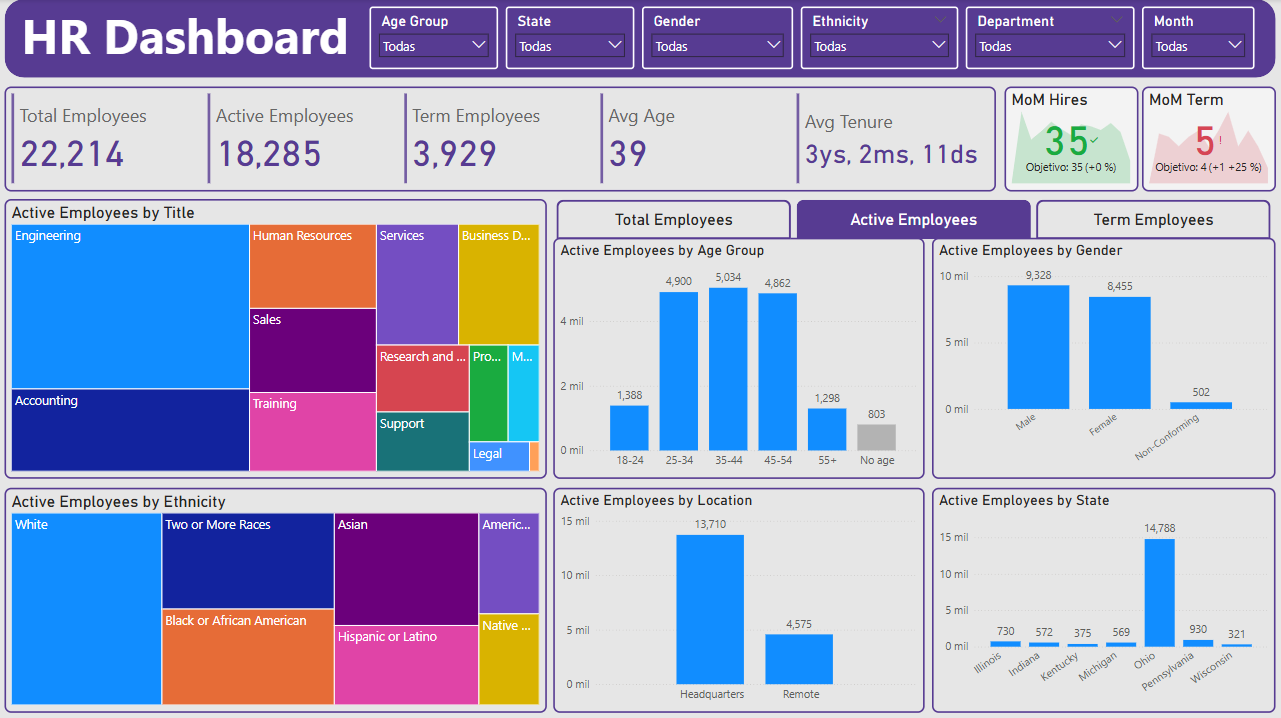

What the dashboard file says about the page in this screenshot:
{"tool":"powerbi","page":{"name":"HHRR","canvas":[1920,1080],"ordinal":0},"visuals":[{"type":"clusteredColumnChart","fields":{"Y":["_Measures.Active Employees"],"Category":["DimStates.name","DimCities.name"]},"box":[1395.7,729.6,513.1,335.9],"z":0},{"type":"clusteredColumnChart","fields":{"Y":["_Measures.Active Employees"],"Category":["FactEmployees.Columna"]},"box":[830.3,356.4,554.2,360.1],"z":1000},{"type":"cardVisual","fields":{"Data":["_Measures.Total employees","_Measures.Active employees","_Measures.Term Employees","_Measures.Avg age","_Measures.Tenure"]},"box":[11.2,130.6,1479.7,156.7],"z":2000},{"type":"advancedSlicerVisual","fields":{"Values":["Employee Measures.Employee Measures"]},"box":[830.3,294.8,1078.5,69],"z":3000},{"type":"treemap","title":"Active Employees by Ethnicity","fields":{"Values":["_Measures.Active employees"],"Group":["DimEthnicities.name"]},"box":[11.2,729.6,809.8,335.9],"z":4000},{"type":"clusteredColumnChart","fields":{"Y":["_Measures.Active Employees"],"Category":["DimLocations.name"]},"box":[830.3,729.6,554.2,335.9],"z":5000},{"type":"clusteredColumnChart","fields":{"Y":["_Measures.Active Employees"],"Category":["DimGender.name"]},"box":[1395.7,356.4,513.1,360.1],"z":6000},{"type":"treemap","title":"Active Employees by Title","fields":{"Values":["_Measures.Active employees"],"Group":["DimDepartments.name","DimJobtitles.jobtitle"]},"box":[11.2,298.6,809.8,418],"z":7000},{"type":"kpi","title":"MoM Hires","fields":{"Indicator":["_Measures.CM Hires"],"Goal":["_Measures.UDLM Hires"],"TrendLine":["Calendar.Month"]},"box":[1503.9,130.6,199.7,156.7],"z":8000},{"type":"kpi","title":"MoM Term","fields":{"Indicator":["_Measures.CM Fires"],"Goal":["_Measures.UPLM Layouts"],"TrendLine":["Calendar.Month"]},"box":[1709.2,130.6,199.7,156.7],"z":9000},{"type":"shape","box":[11.2,0,1897.7,117.6],"z":10000},{"type":"textbox","box":[31.7,0,509.4,117.6],"z":11000},{"type":"slicer","fields":{"Values":["Calendar.Year Month"]},"box":[1709.2,11.2,167.9,93.3],"z":12000},{"type":"slicer","fields":{"Values":["DimDepartments.name"]},"box":[1446.1,11.2,251.9,93.3],"z":13000},{"type":"slicer","fields":{"Values":["DimEthnicities.name"]},"box":[1199.8,11.2,235.1,93.3],"z":14000},{"type":"slicer","fields":{"Values":["DimGender.name"]},"box":[962.8,11.2,225.8,93.3],"z":15000},{"type":"slicer","fields":{"Values":["DimStates.name"]},"box":[759.4,11.2,192.2,93.3],"z":16000},{"type":"slicer","fields":{"Values":["FactEmployees.Age group"]},"box":[556,11.2,192.2,93.3],"z":17000}]}

Visuals, with their boxes in screenshot pixels (x1, y1, x2, y2), scaled from the page's 1920x1080 canvas onto the 1281x718 screenshot:
clusteredColumnChart - _Measures.Active Employees x DimStates.name: region(931, 485, 1274, 708)
clusteredColumnChart - _Measures.Active Employees x FactEmployees.Columna: region(554, 237, 924, 476)
cardVisual - _Measures.Total employees x _Measures.Active employees: region(7, 87, 995, 191)
advancedSlicerVisual - Employee Measures.Employee Measures: region(554, 196, 1274, 242)
"Active Employees by Ethnicity" treemap: region(7, 485, 548, 708)
clusteredColumnChart - _Measures.Active Employees x DimLocations.name: region(554, 485, 924, 708)
clusteredColumnChart - _Measures.Active Employees x DimGender.name: region(931, 237, 1274, 476)
"Active Employees by Title" treemap: region(7, 199, 548, 476)
"MoM Hires" kpi: region(1003, 87, 1137, 191)
"MoM Term" kpi: region(1140, 87, 1274, 191)
shape: region(7, 0, 1274, 78)
textbox: region(21, 0, 361, 78)
slicer - Calendar.Year Month: region(1140, 7, 1252, 69)
slicer - DimDepartments.name: region(965, 7, 1133, 69)
slicer - DimEthnicities.name: region(800, 7, 957, 69)
slicer - DimGender.name: region(642, 7, 793, 69)
slicer - DimStates.name: region(507, 7, 635, 69)
slicer - FactEmployees.Age group: region(371, 7, 499, 69)
